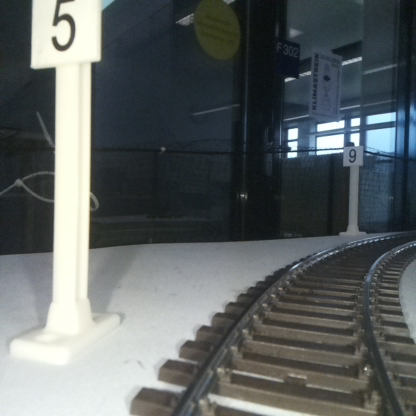white-info-5: (32, 1, 100, 359)
white-info-9: (343, 145, 363, 236)
